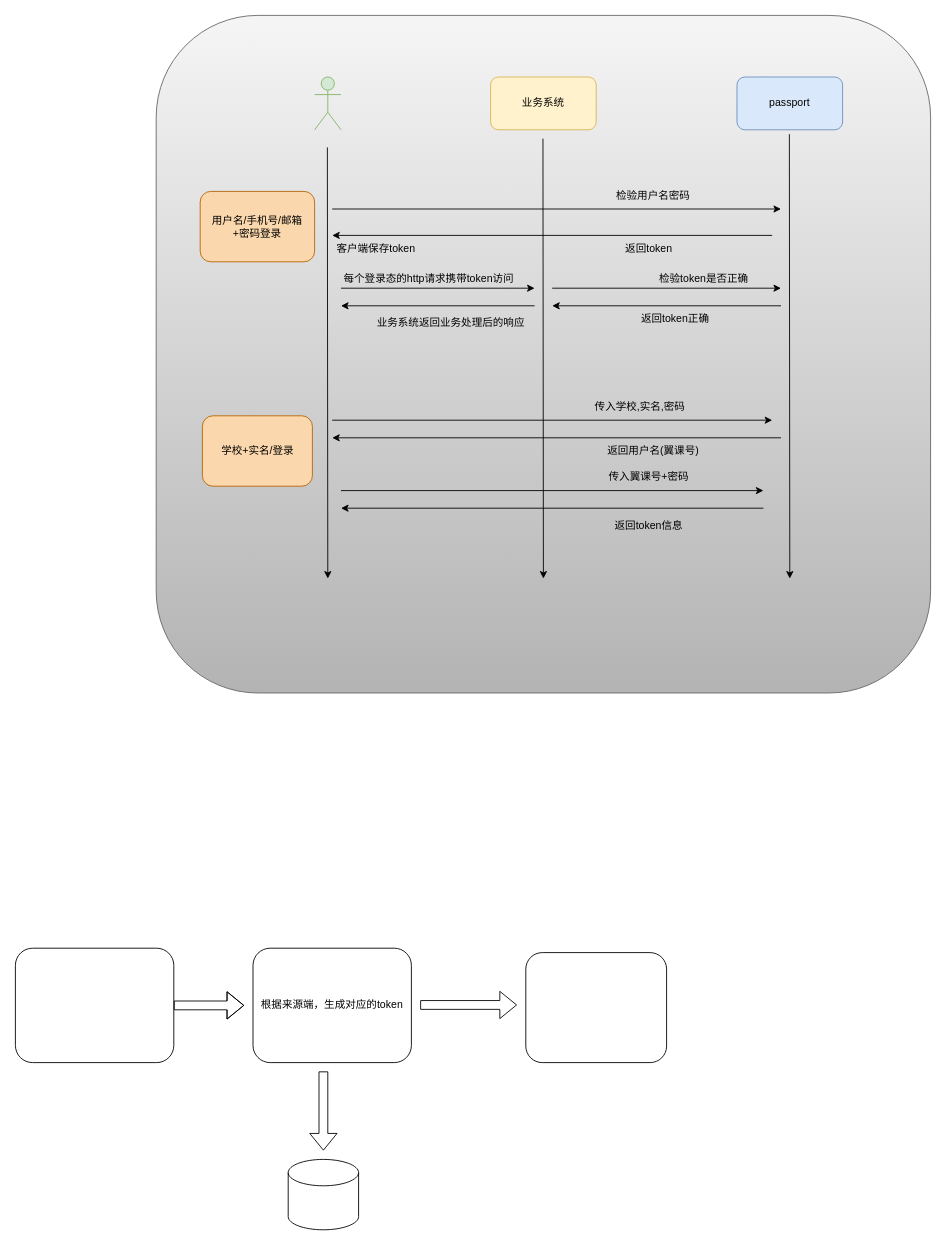
Image size: 946x1245. Some labels were removed from this diagram. The centre of each missing label's shape, as x and y in pixels:
Actor: the point at 327,103
Redis: the point at 323,1194
检查用户名密码是否正确 (实名，验证码，一键登录对应各自的检查逻辑): the point at 94,1005
